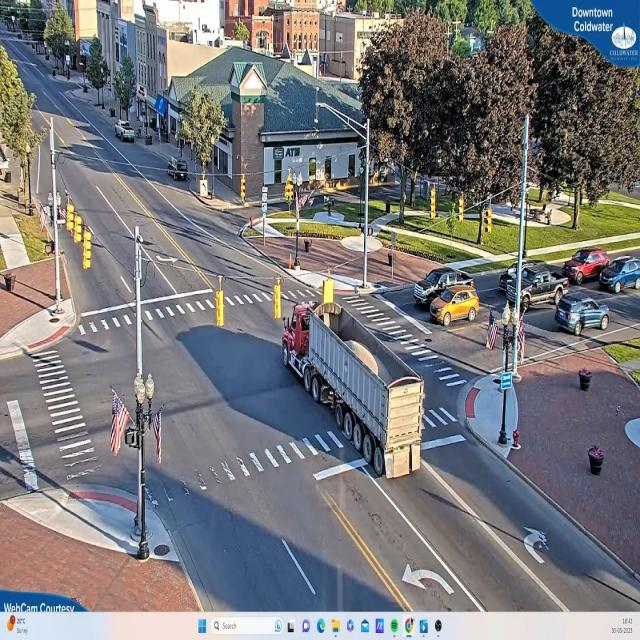car: (500, 264, 568, 308), (412, 267, 475, 307), (556, 295, 610, 336), (430, 290, 481, 327), (562, 250, 612, 285), (601, 259, 640, 293), (167, 151, 190, 180), (115, 120, 135, 142)
truck: (280, 293, 422, 472)
